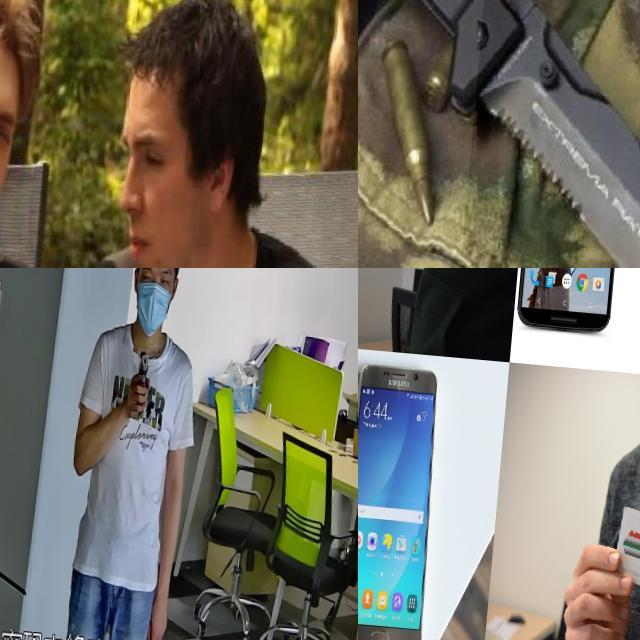-: (463, 0, 640, 268)
gun-knife-thesis - v11 Yolov5 augmented: (135, 339, 166, 414)
